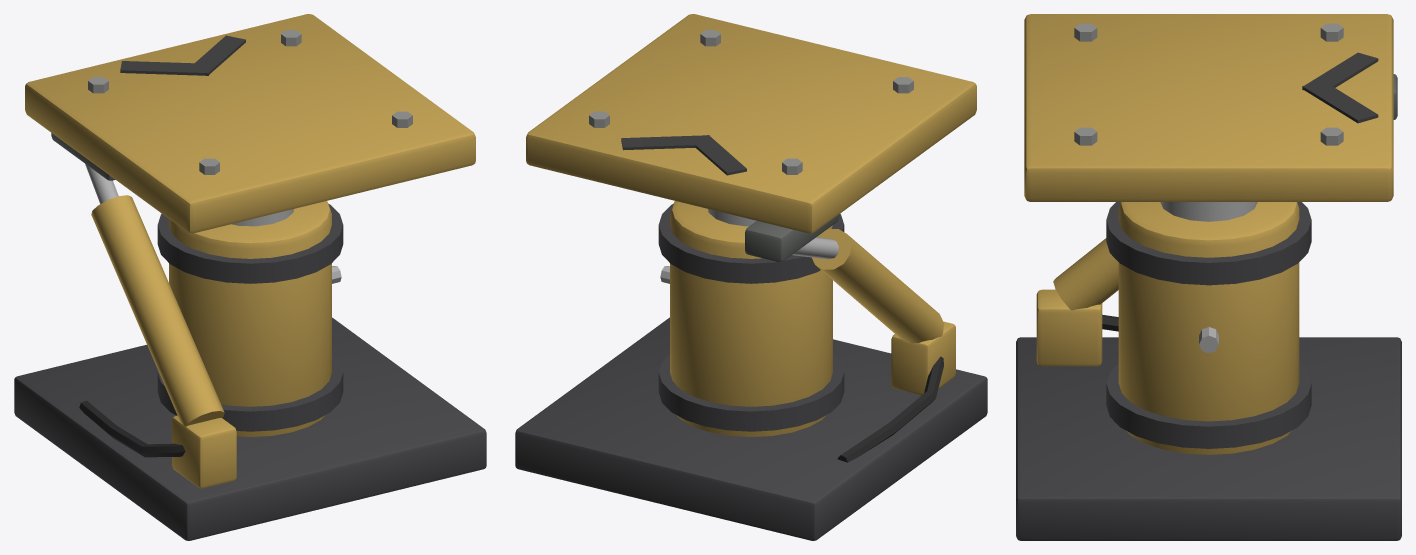
File: steer.glb
3 renders of one model, left to right at view 1: azimuth 30°, elevation 25°; view 2: azimuth 150°, elevation 25°; view 3: azimuth 270°, elevation 25°, orthographic. The views are drawn at different scales.
Visible parts, largest first — view 1: Part, Top; view 2: Part, Top; view 3: Part, Top.
Part boxes in pixels (x1=…): Part: x1=14, y1=164, x2=486, y2=540; Top: x1=25, y1=14, x2=475, y2=233; Part: x1=515, y1=201, x2=987, y2=540; Top: x1=526, y1=14, x2=976, y2=262; Part: x1=1016, y1=202, x2=1401, y2=540; Top: x1=1024, y1=14, x2=1397, y2=221.
Bounding box in the file's own units: 0.47 × 0.526 × 0.47.
